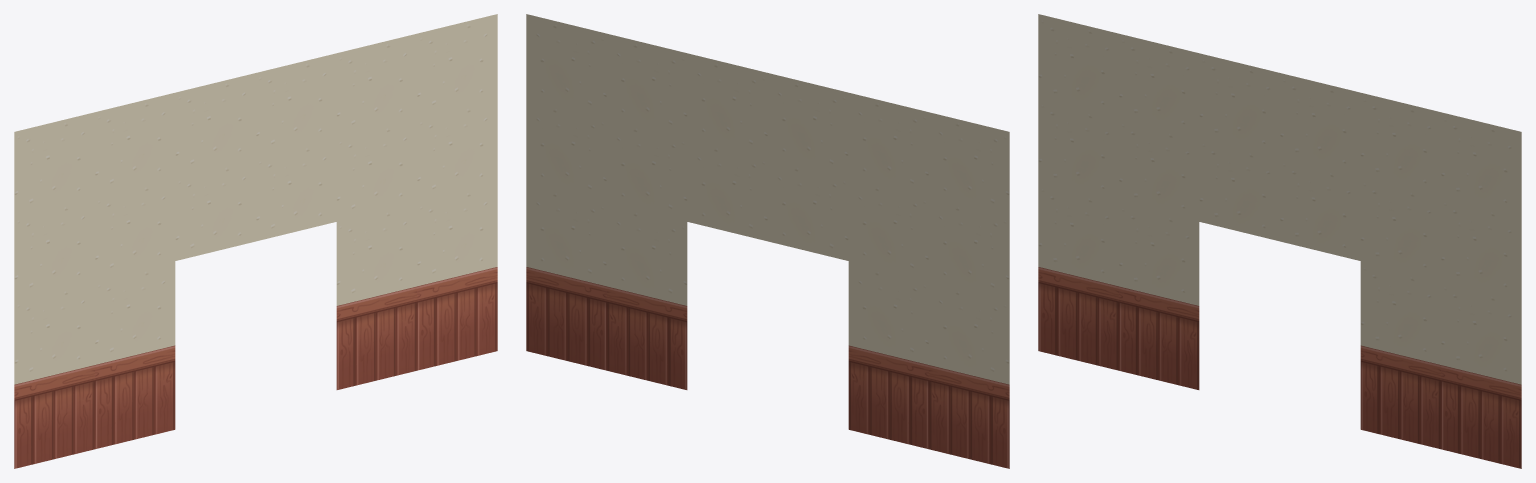
Rendered from 1층_클리어.FBX.
3 renders of one model, left to right at view 1: azimuth 30°, elevation 25°; view 2: azimuth 150°, elevation 25°; view 3: azimuth 330°, elevation 25°, orthographic.
Visible parts, largest first — view 1: Object077; view 2: Object077; view 3: Object077.
Part boxes in pixels (x1,y1,x2,y2): Object077: (14,14,497,468); Object077: (526,14,1009,468); Object077: (1038,14,1521,468).
Bounding box in the file's own units: 60 × 40 × 7.63e-06.
